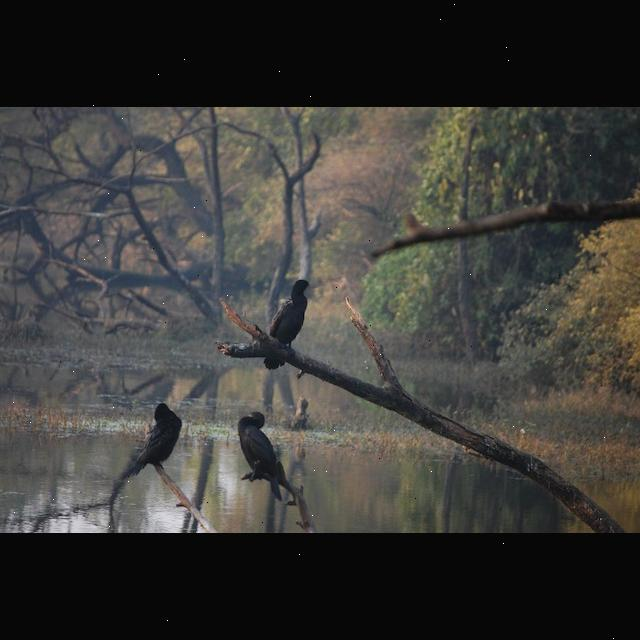cormorant: (260, 276, 324, 372), (232, 406, 286, 494), (130, 398, 186, 478)
